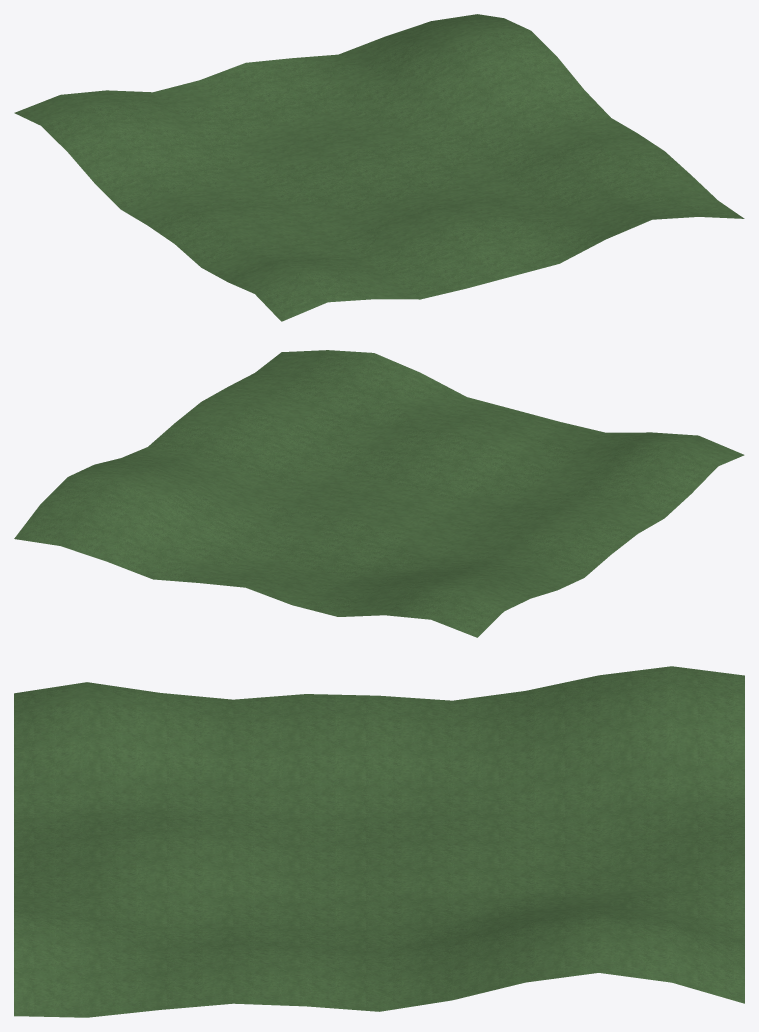
Rendered from MainMenuTerrain.fbx.
3 renders of one model, top to bottom at view 1: azimuth 30°, elevation 25°; view 2: azimuth 150°, elevation 25°; view 3: azimuth 270°, elevation 25°, orthographic. The views are drawn at different scales.
Parts seen in each view (by area): view 1: MainMenuTerrain; view 2: MainMenuTerrain; view 3: MainMenuTerrain.
Part boxes in pixels (<box>): MainMenuTerrain: <box>14,14,744,321</box>; MainMenuTerrain: <box>14,350,744,637</box>; MainMenuTerrain: <box>14,666,744,1017</box>.
Size of the model in its own units: 23.71 by 2.04 by 23.71.
1 material, 1 textured.
